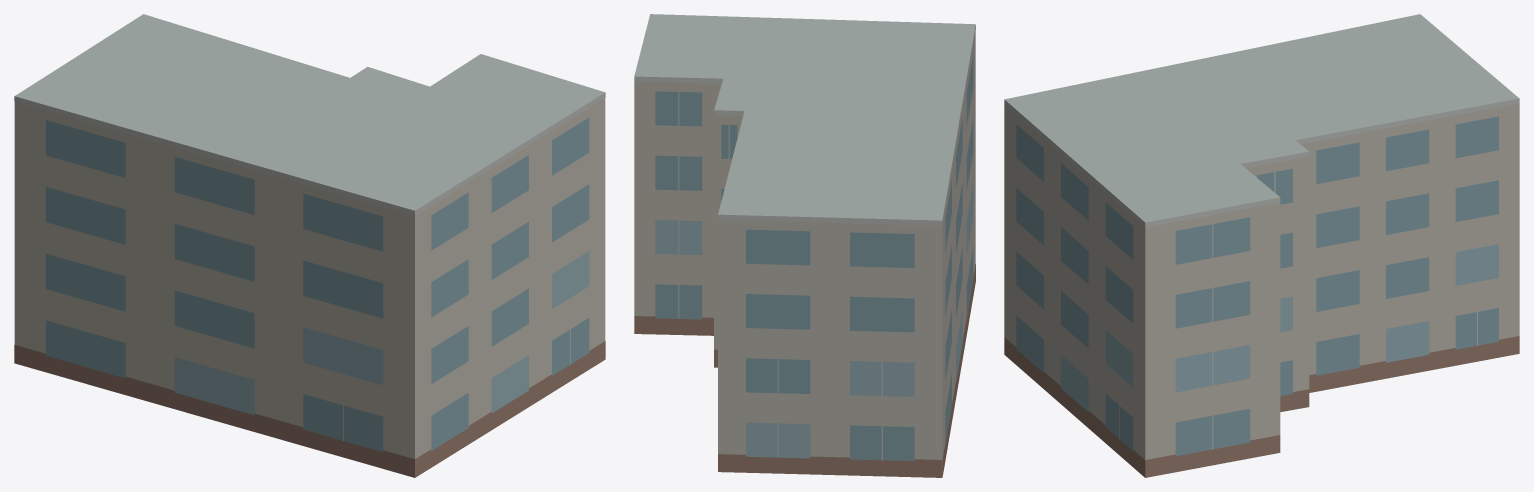
The model's file is survey-upis-32746732.glb.
3 views of the same model, side by side, from view 1: azimuth 30°, elevation 25°; view 2: azimuth 150°, elevation 25°; view 3: azimuth 270°, elevation 25° (orthographic). The views are drawn at different scales.
Visible parts, largest first — view 1: survey-upis-32746732.tmp; view 2: survey-upis-32746732.tmp; view 3: survey-upis-32746732.tmp.
Boxes of the visible parts, bbox=[...] form: survey-upis-32746732.tmp: bbox=[14, 14, 605, 477]; survey-upis-32746732.tmp: bbox=[634, 14, 975, 477]; survey-upis-32746732.tmp: bbox=[1004, 14, 1519, 477].
Bounding box in the file's own units: 21.38 × 12.2 × 22.32.
